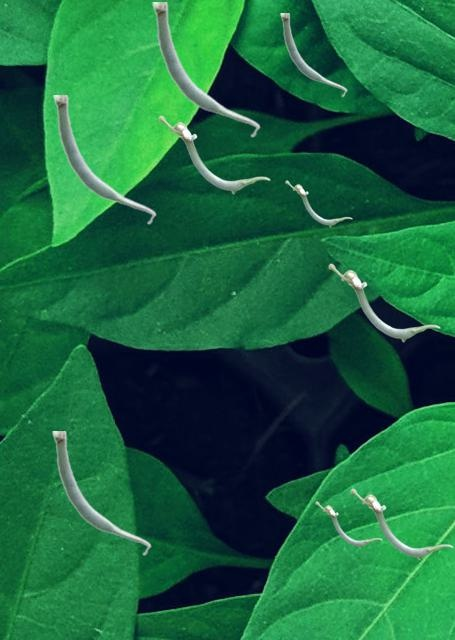french_bean: (152, 2, 259, 137), (53, 95, 155, 224), (52, 431, 150, 555), (158, 115, 269, 193), (328, 263, 439, 341), (350, 488, 452, 559), (280, 13, 346, 96), (315, 501, 381, 547), (285, 180, 351, 226)
